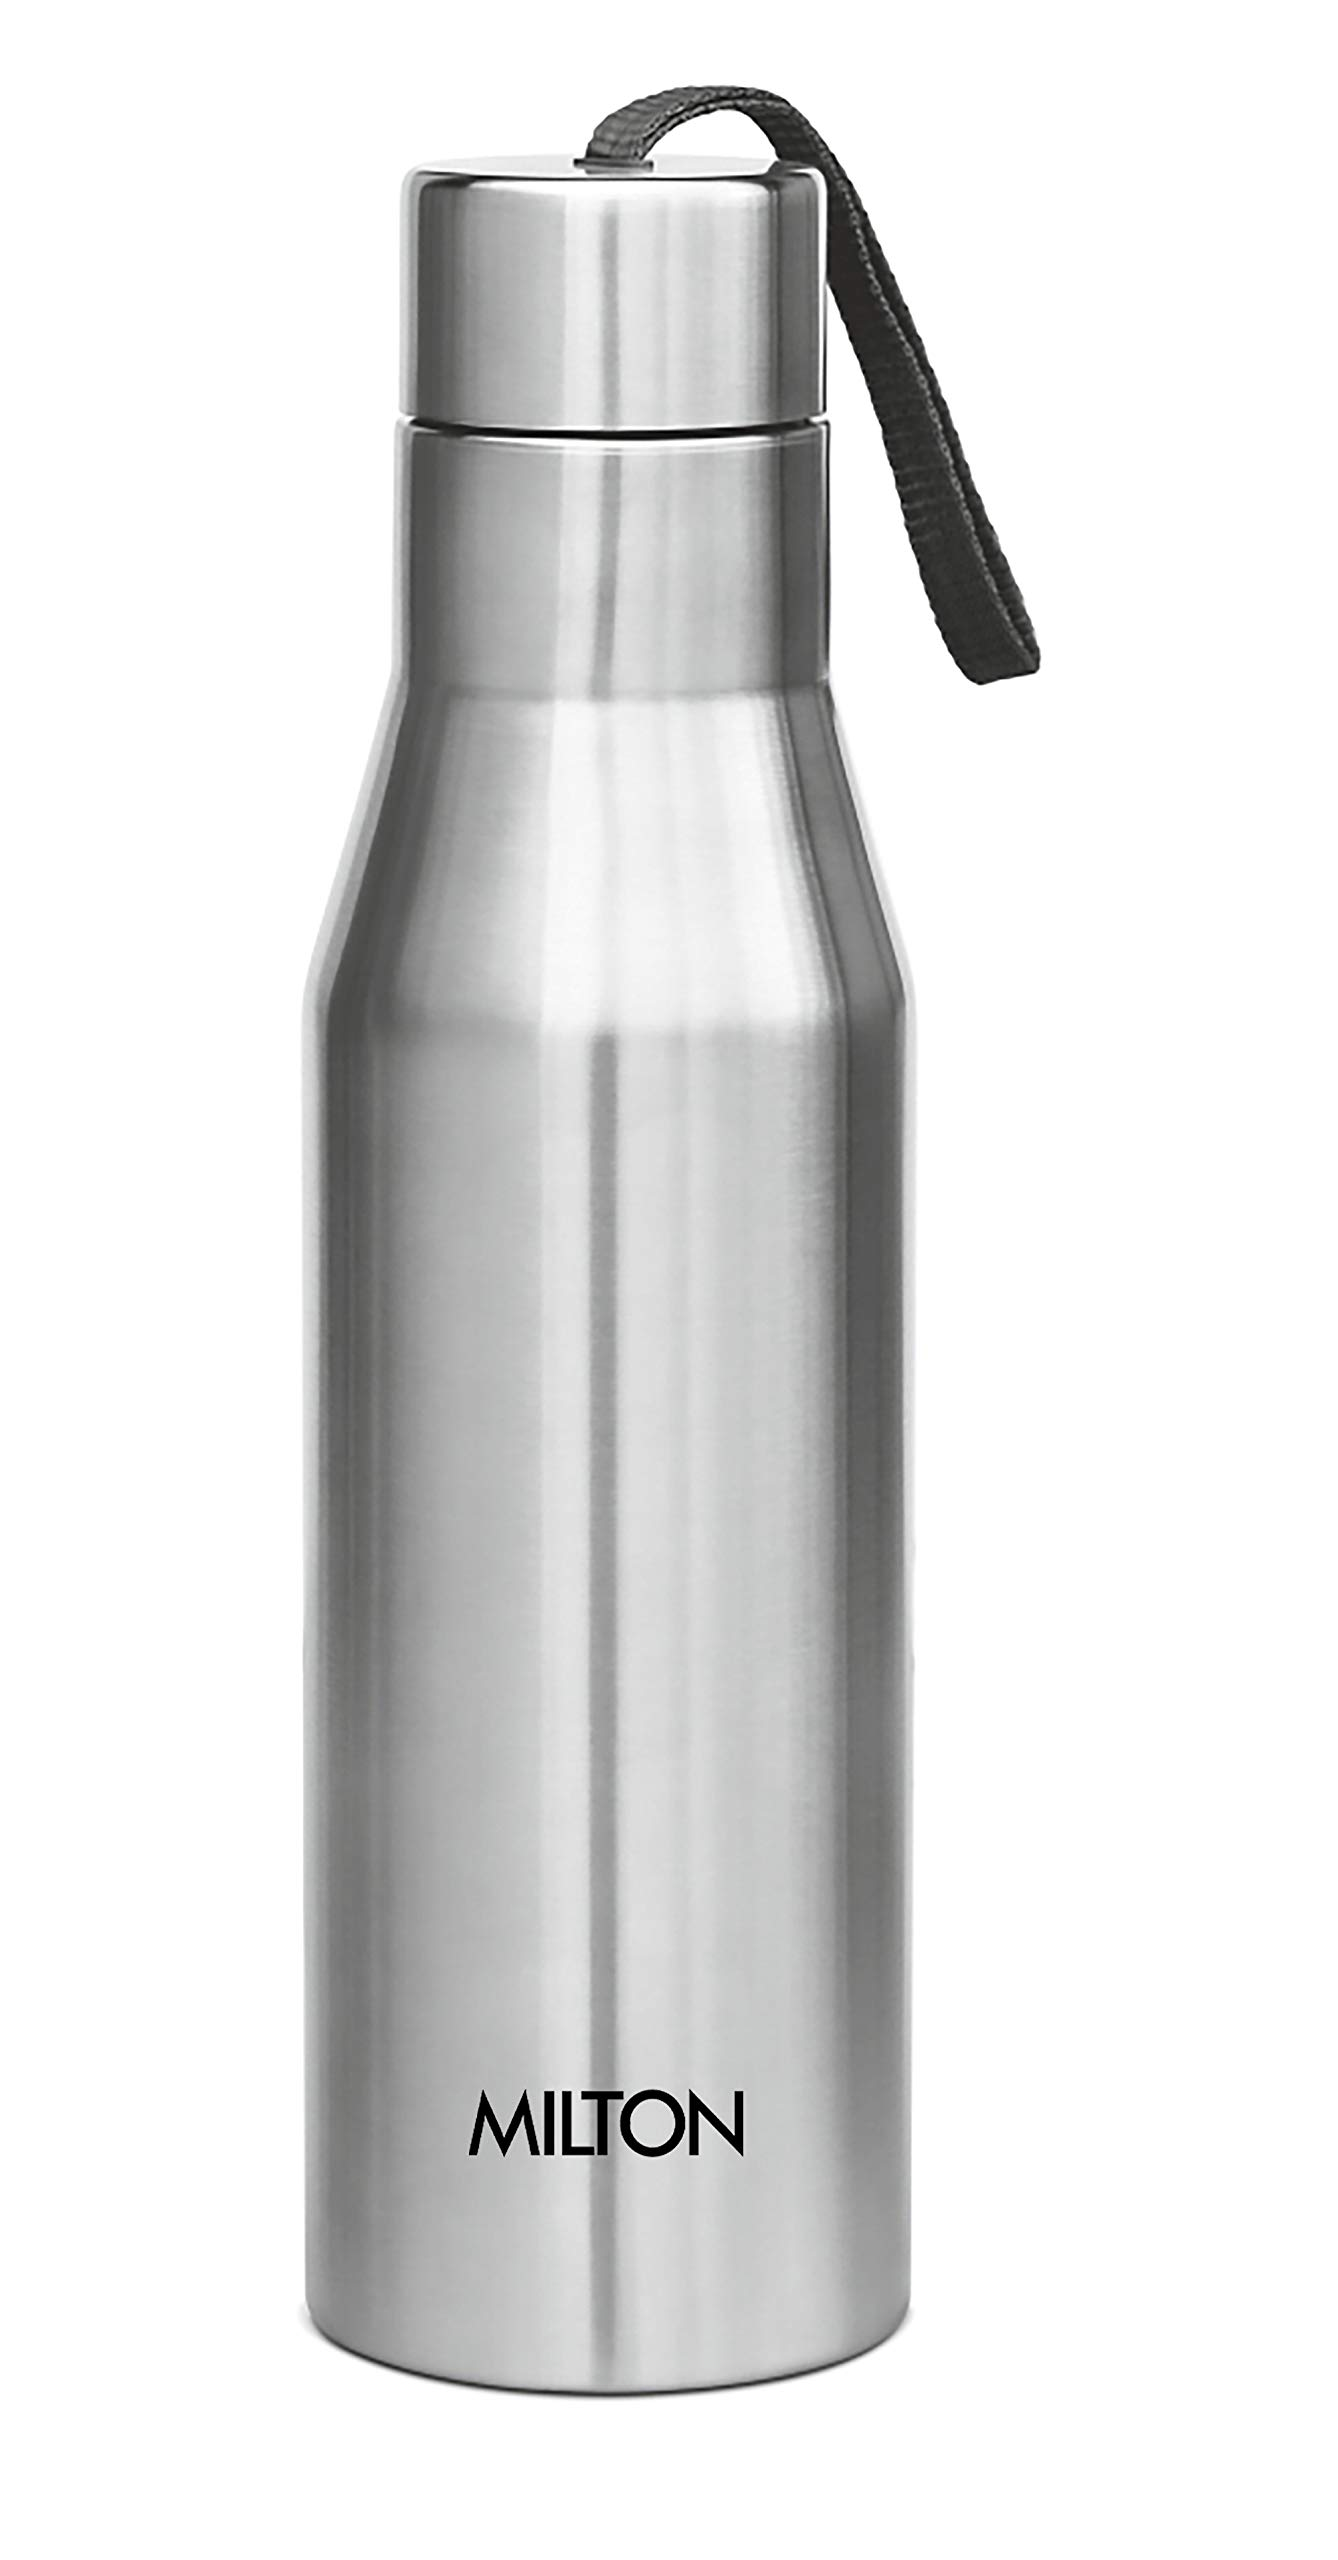bottle_cap: (325, 52, 981, 479)
water_bottle: (196, 20, 1114, 2455)
